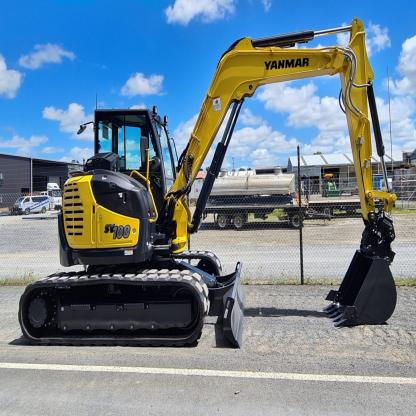excavator: (21, 17, 407, 350)
